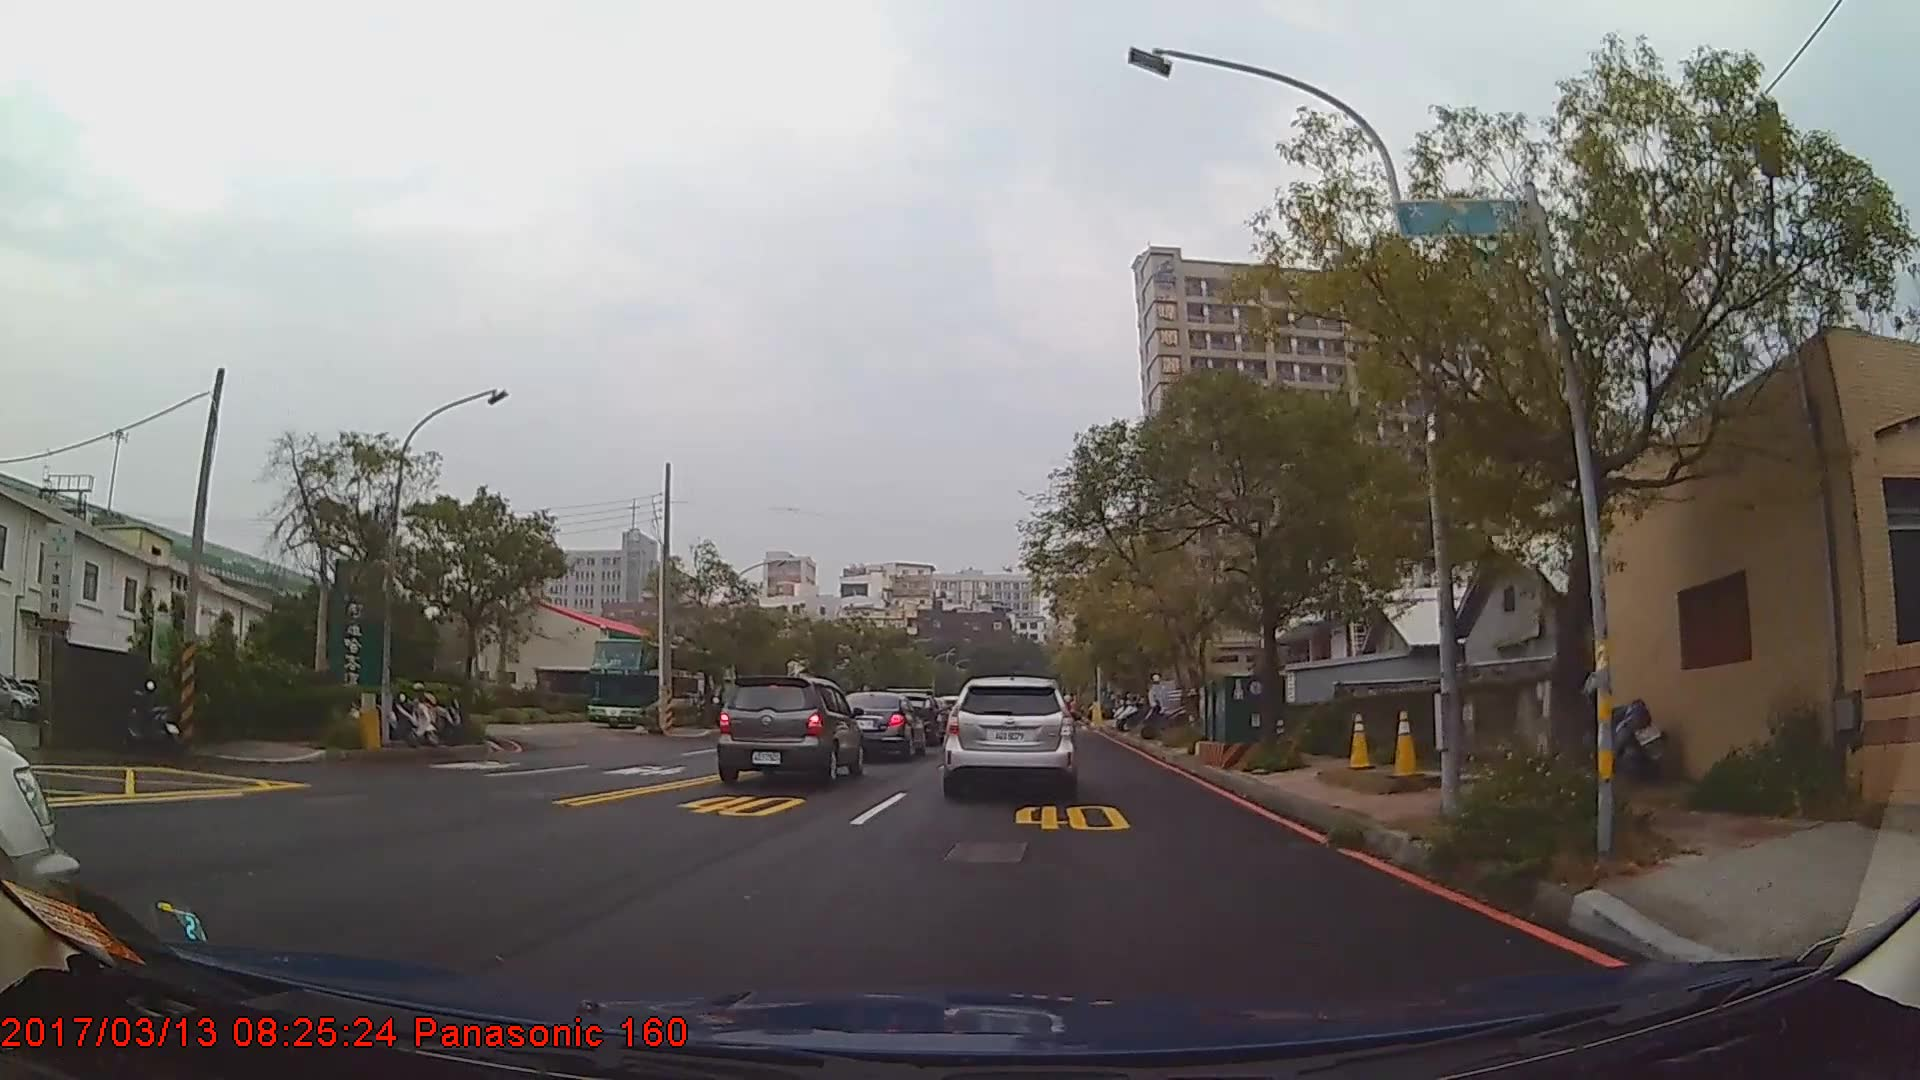vehicle: (715, 674, 864, 785), (942, 676, 1077, 796), (0, 738, 80, 924), (587, 636, 724, 731), (833, 692, 926, 760)
